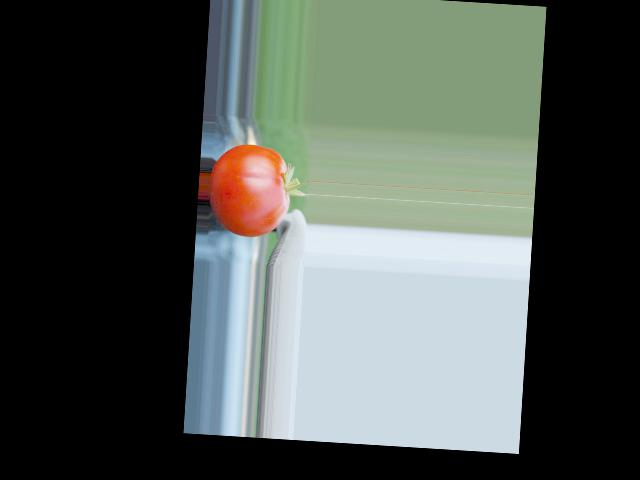tomato: (206, 141, 292, 239)
